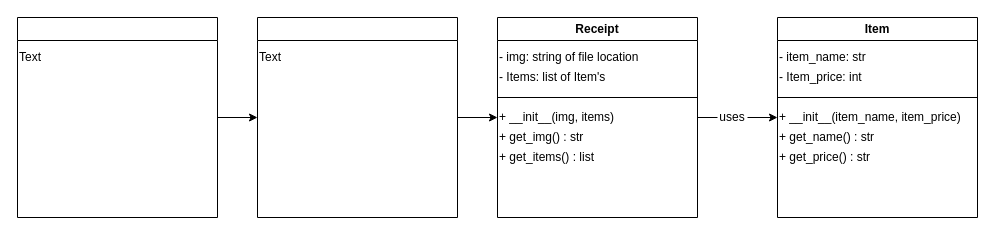
Image size: 996x235. Some labels were removed from this diagram. The shapes that lost their labels are listed below. From the top down, each one's box as (x1, y1, x2, y2) in pixels, then its label:
(16, 16, 218, 218): Image-Preprocessor
(256, 16, 458, 218): Optical Char Recognition (OCR)
